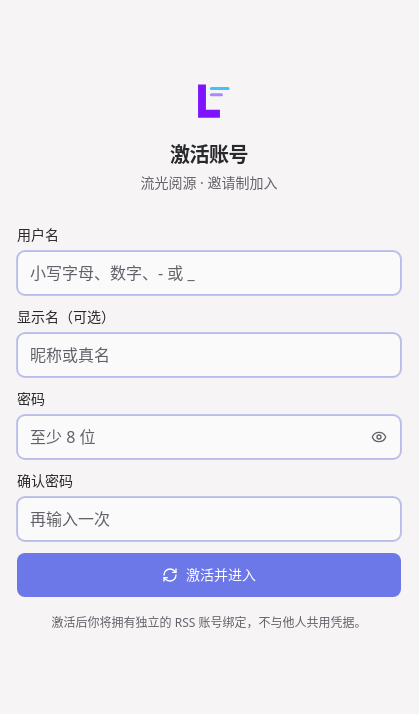
表单校验与提交 › 客户端校验：非法用户名 / 短密码 / 确认不一致 → 不发激活请求
This screenshot has width=419, height=714.
Type "Bad Name!" into the field labelled "用户名" at (209, 273), box [17, 251, 401, 295]
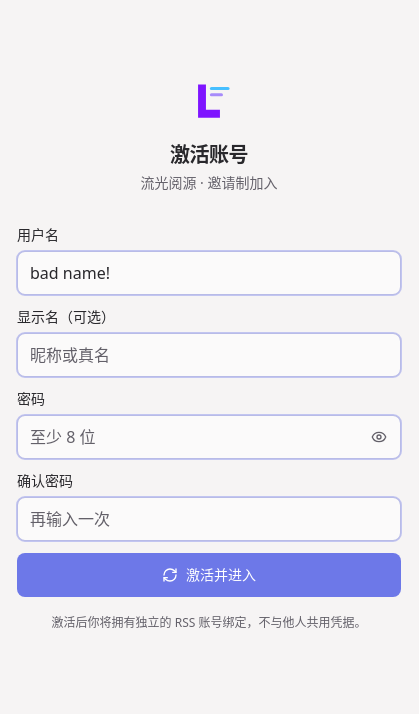
Type "short" into the password field labelled "密码" at (209, 437), box [17, 415, 401, 459]
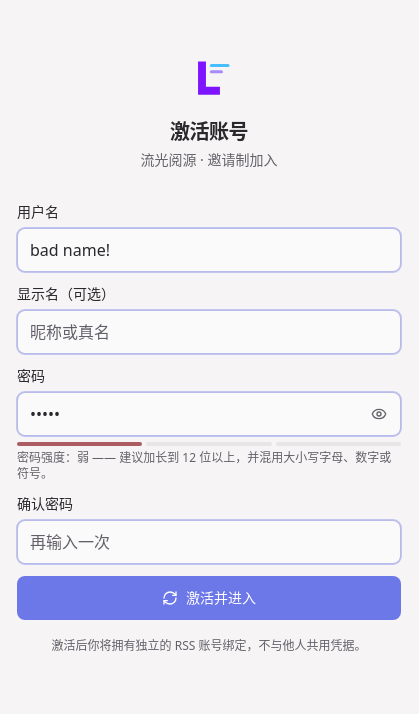
Type "short2" into the password field labelled "确认密码" at (209, 542), box [17, 520, 401, 564]
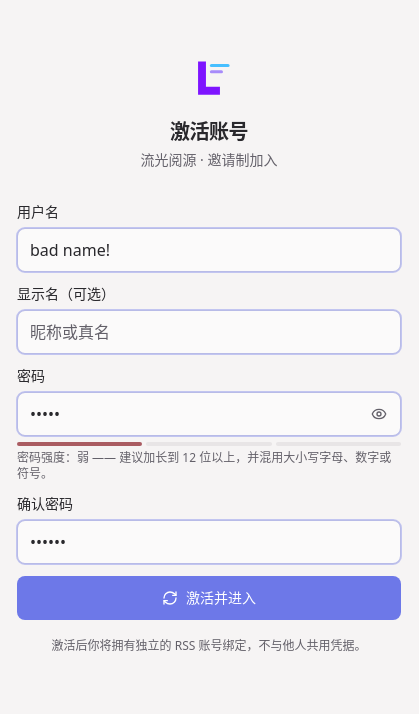
Click the button "激活并进入" at (209, 598), box [17, 576, 401, 620]
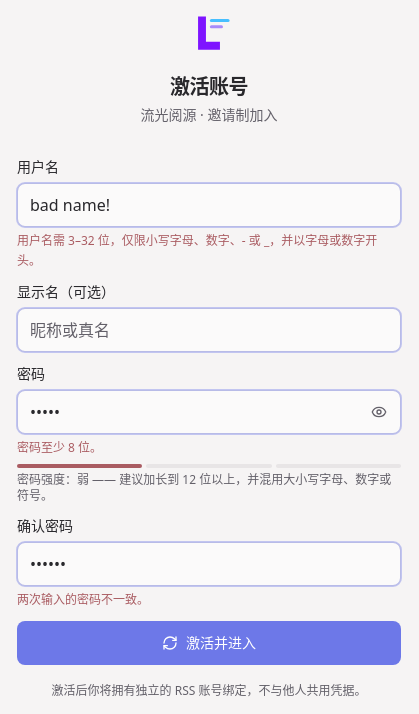
Expected: the text "用户名需 3–32 位，仅限小写字母、数字、- 或 _，并以字母或数字开头。" is shown, [17, 231, 401, 270]
Expected: the text "密码至少 8 位。" is shown, [17, 439, 102, 456]
Expected: the text "两次输入的密码不一致。" is shown, [17, 591, 149, 608]
